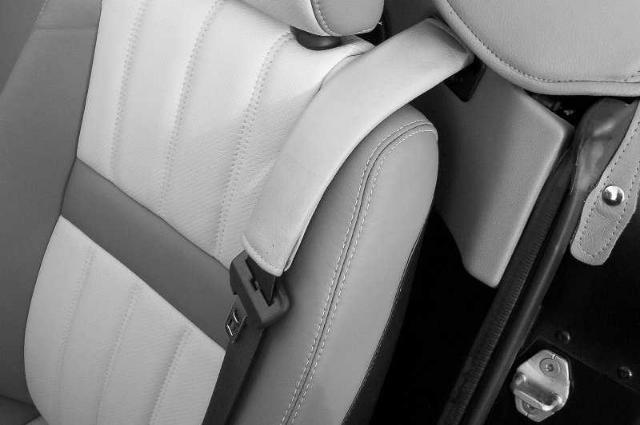Seatbelt: (200, 16, 473, 425)
